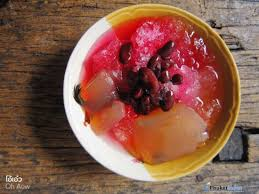O-eo: (65, 5, 247, 182)
